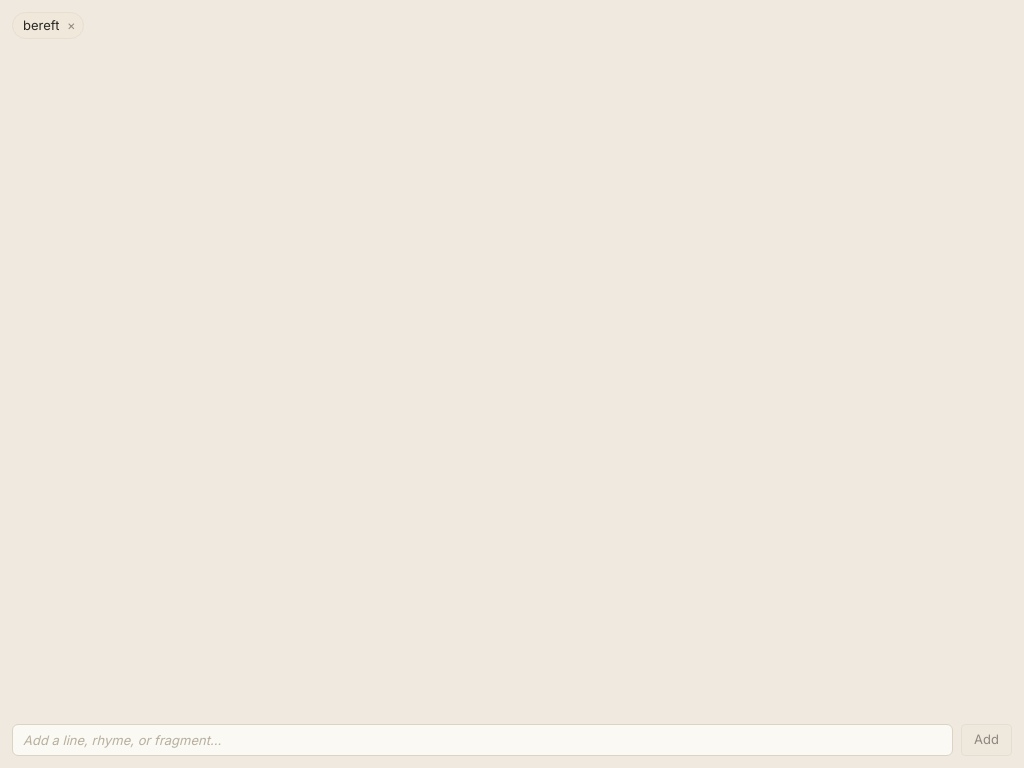
Test: Inventory chips insert at the caret (C-42) › T-14.30: removing a chip still works — the insert control did not swallow the remove
What coordinates should you click on to do the following:
click the button with test id "inventory-chip-remove"
I would click on:
 (71, 25)
Its box is x1=63 y1=17 x2=79 y2=33.
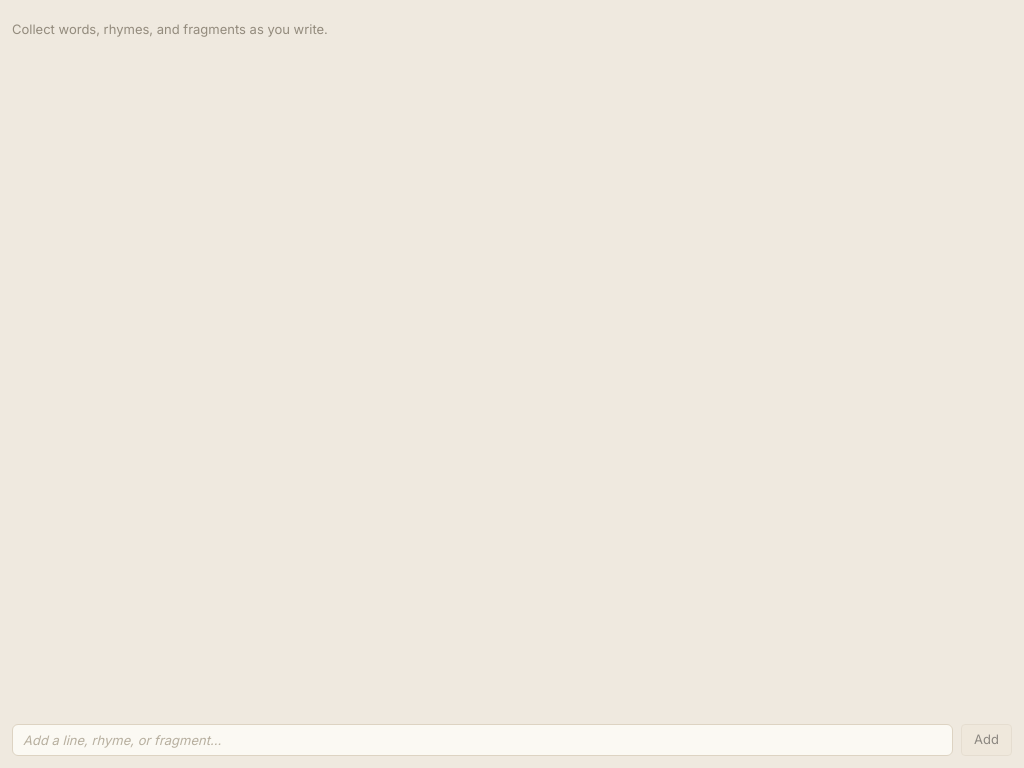
Check: the element with test id "inventory-chip" is gone
